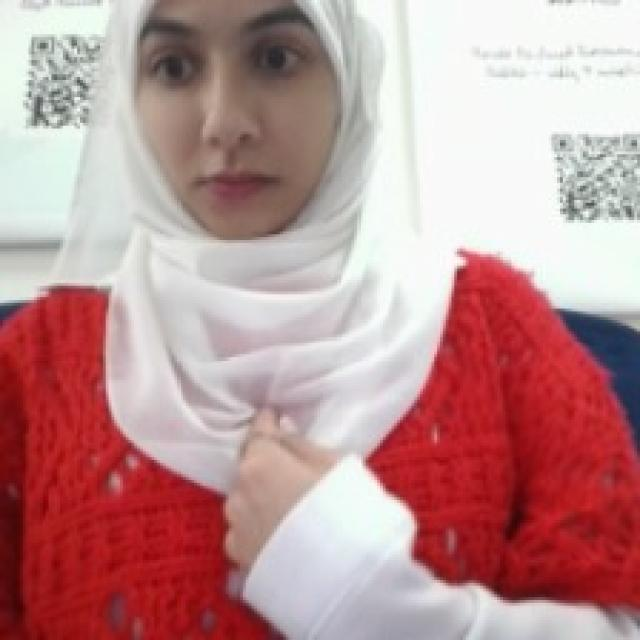me: (214, 399, 348, 587)
